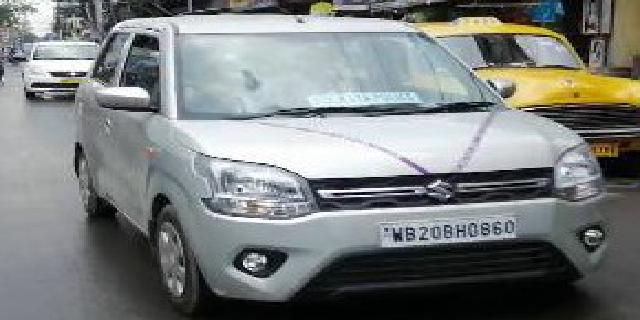Car: (106, 13, 622, 310), (25, 40, 111, 108)
